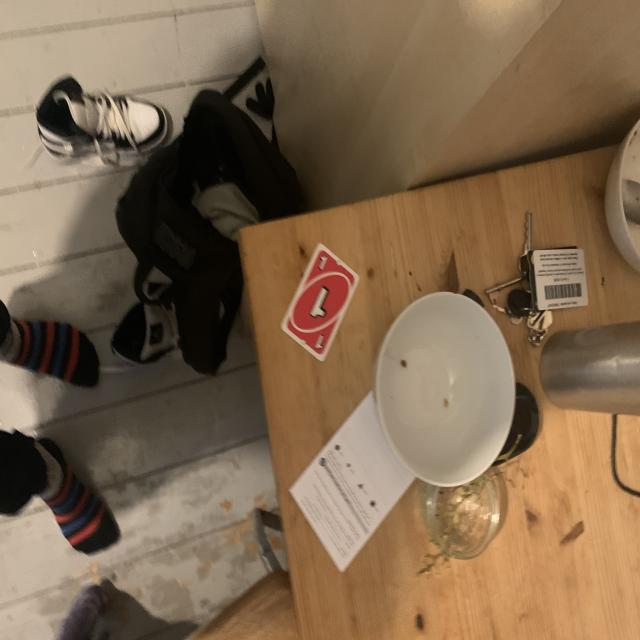lred-1: (314, 251, 331, 274)
